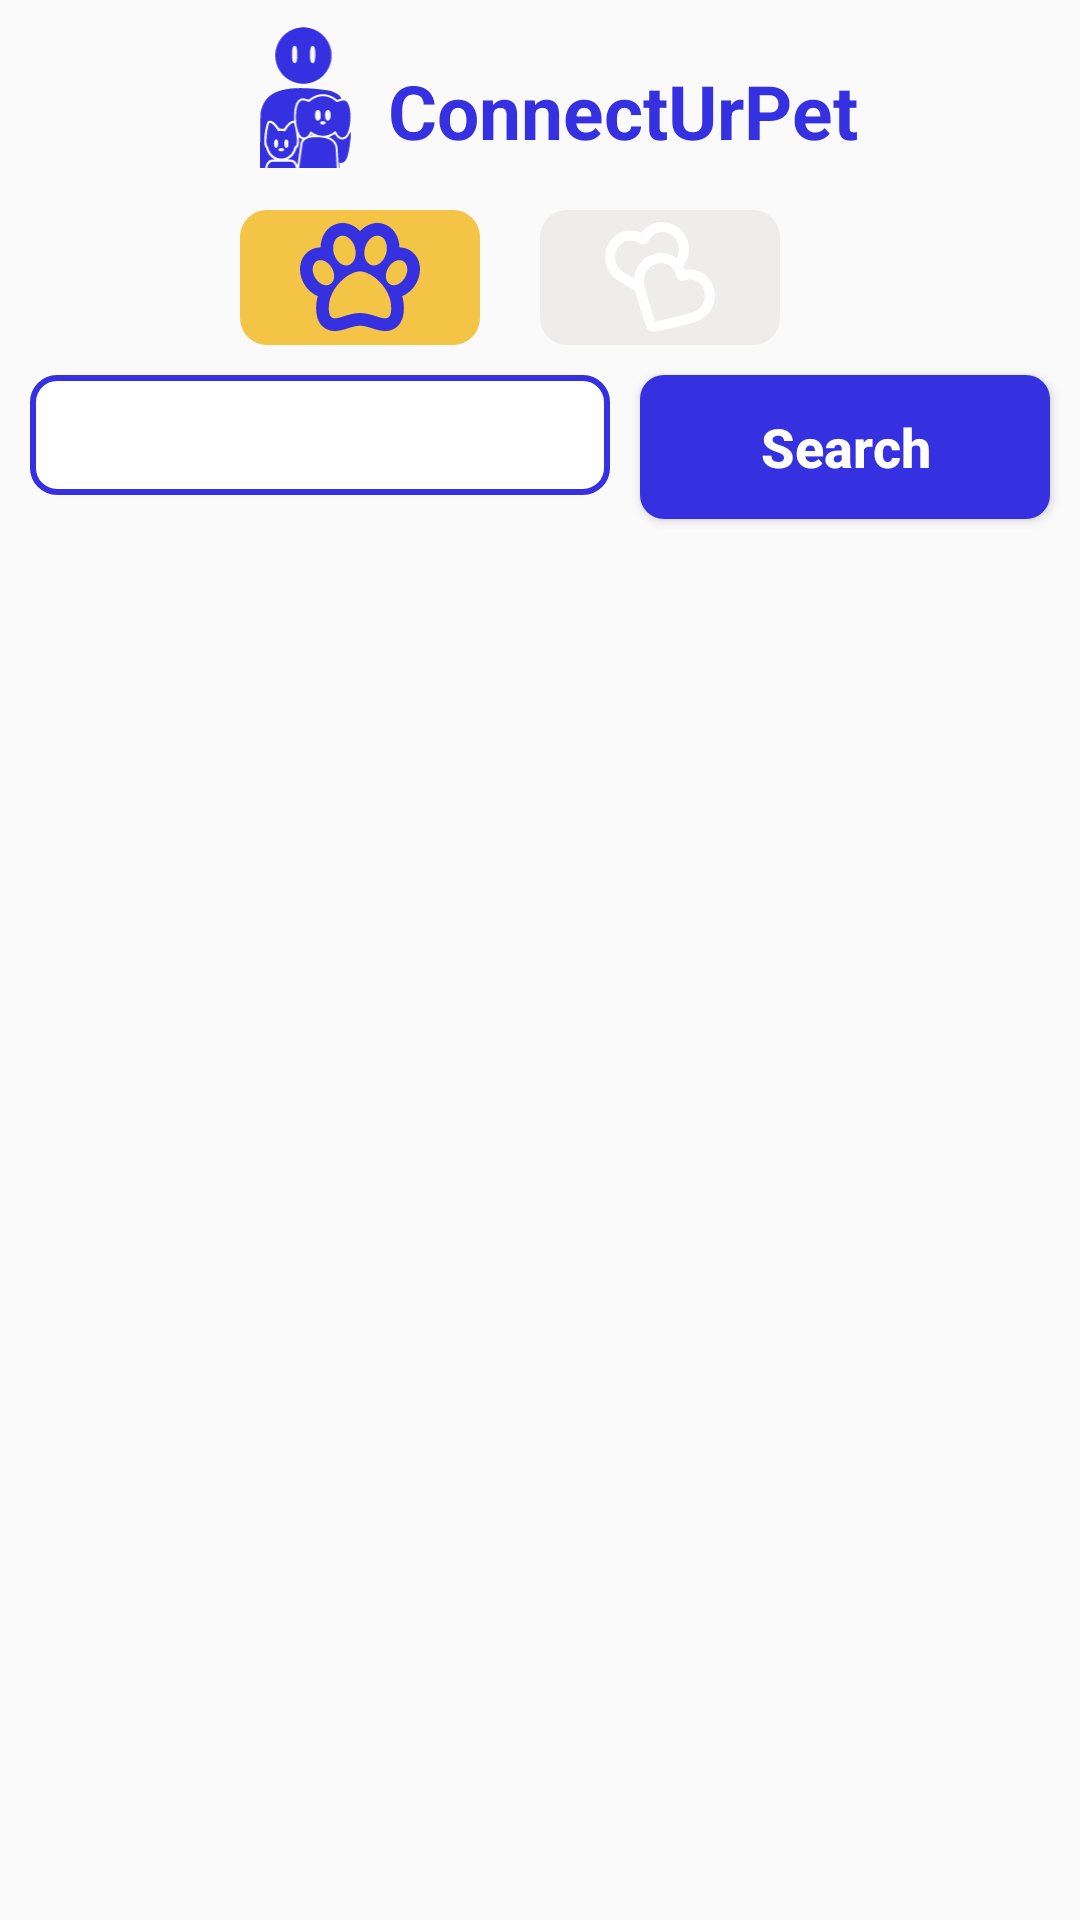

Icons on this 1080*1920 Android screen, each with its box as BBox(x1, y1, x2, y2):
pawprint: BBox(300, 223, 420, 331)
